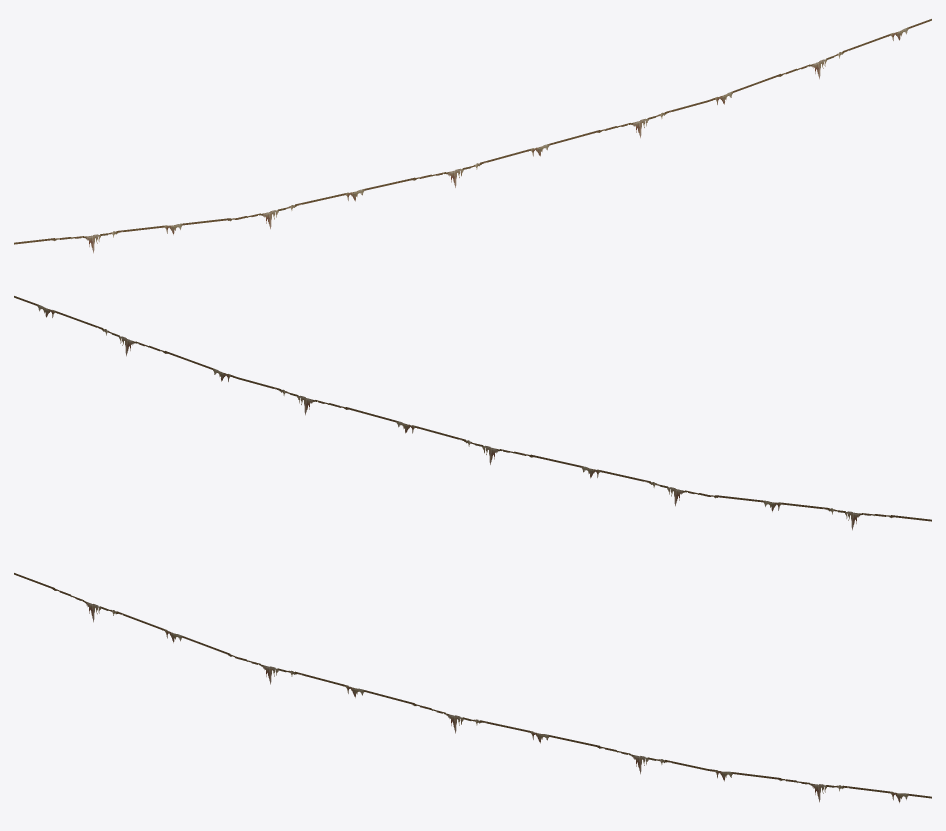
The model's file is w_cd_ravi_gorge04_01.glb.
The picture shows the model from 3 angles, top to bottom: view 1: azimuth 30°, elevation 25°; view 2: azimuth 150°, elevation 25°; view 3: azimuth 330°, elevation 25°; orthographic projection.
Visible parts, largest first — view 1: W_CD_ravi_gorge04_01; view 2: W_CD_ravi_gorge04_01; view 3: W_CD_ravi_gorge04_01.
Boxes of the visible parts, <box> form: W_CD_ravi_gorge04_01: <box>14,19,931,253</box>; W_CD_ravi_gorge04_01: <box>14,296,931,530</box>; W_CD_ravi_gorge04_01: <box>14,573,931,802</box>.
Bounding box in the file's own units: 108 × 6.53 × 2.85e-07.
1 material, 1 textured.
